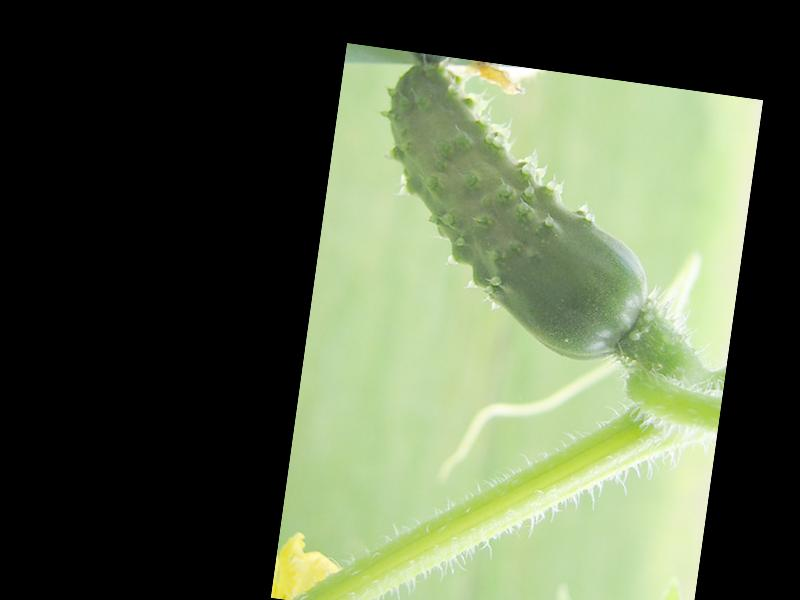Cucumber: (355, 58, 671, 371)
